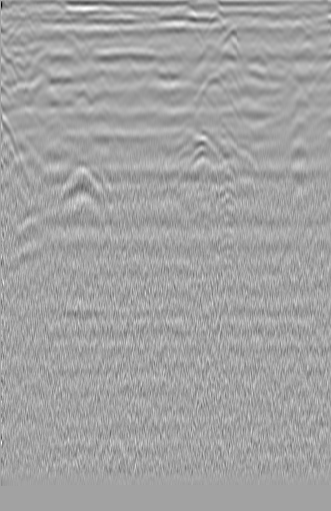상수: (291, 29, 325, 63)
오수: (5, 17, 42, 54)
우수: (147, 41, 184, 77)
